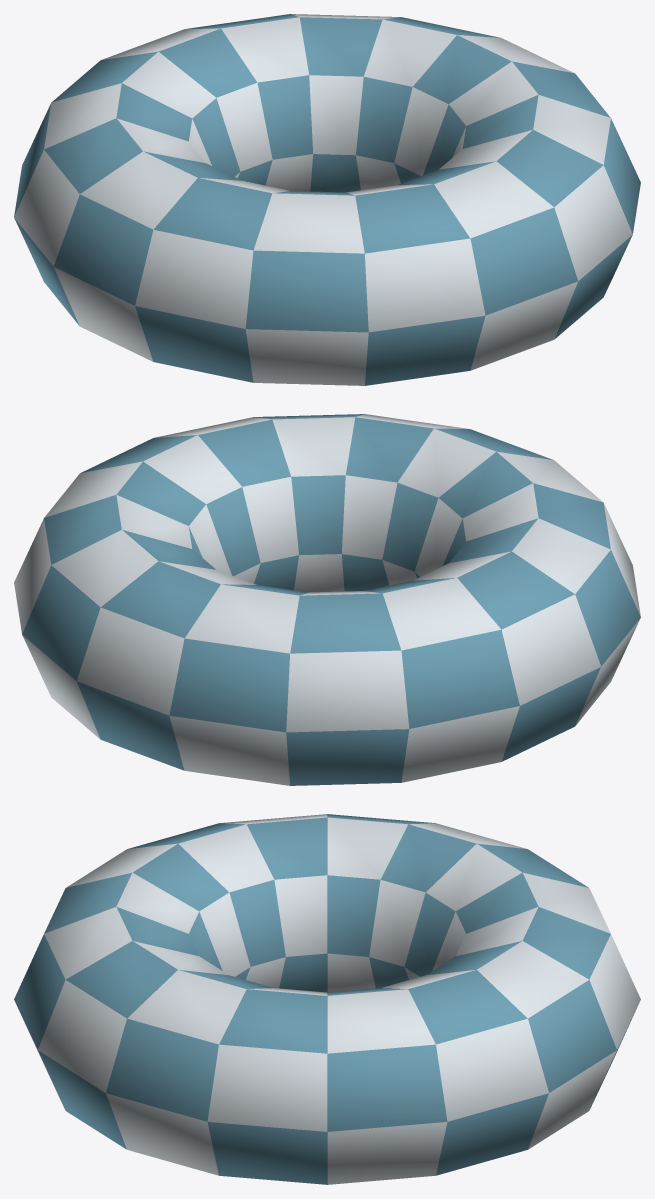
3 renders of one model, top to bottom at view 1: azimuth 30°, elevation 25°; view 2: azimuth 150°, elevation 25°; view 3: azimuth 270°, elevation 25°, orthographic.
Visible parts, largest first — view 1: mesh, meshAlt; view 2: meshAlt, mesh; view 3: mesh, meshAlt.
Boxes of the visible parts, box(x1,y1,x2,y2) form: mesh: box(14, 14, 640, 385); meshAlt: box(14, 14, 632, 385); meshAlt: box(14, 414, 640, 785); mesh: box(22, 414, 640, 785); mesh: box(14, 814, 638, 1184); meshAlt: box(16, 814, 640, 1184).
Bounding box in the file's own units: 1.96 × 0.64 × 1.96.
